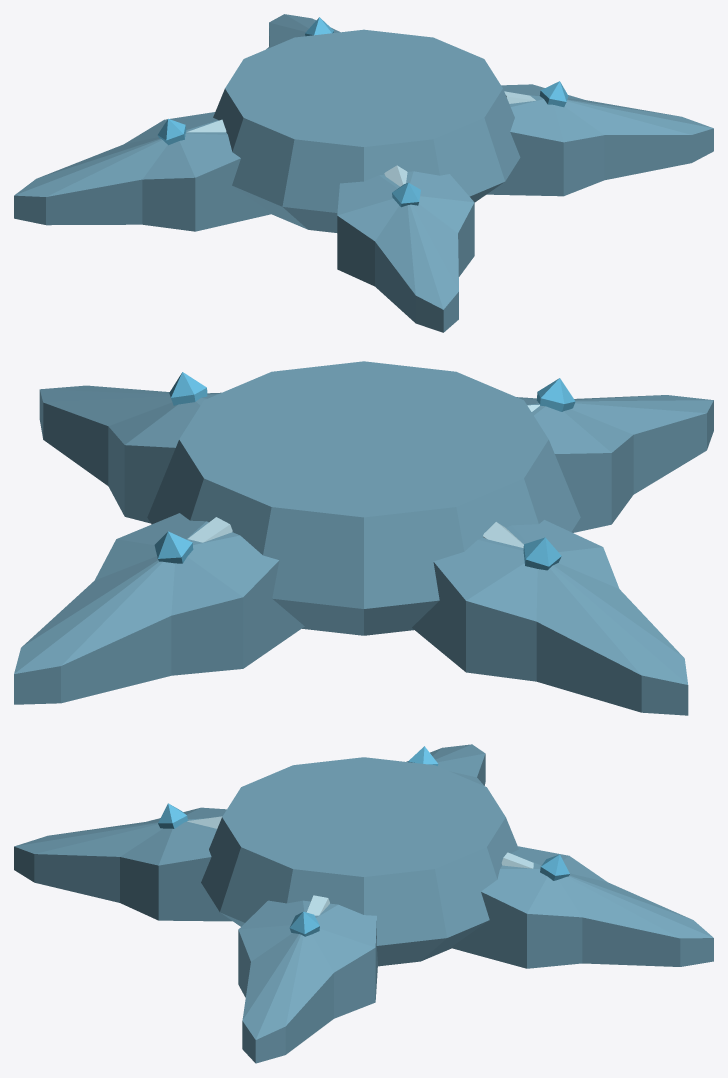
The model's file is FrostRoot.obj.
3 views of the same model, one above another, from view 1: azimuth 30°, elevation 25°; view 2: azimuth 150°, elevation 25°; view 3: azimuth 270°, elevation 25° (orthographic). The views are drawn at different scales.
Visible parts, largest first — view 1: FrostRoot_FrostRootBody, FrostRoot_RootIceCrystals, FrostRoot_FrostRootIce; view 2: FrostRoot_FrostRootBody, FrostRoot_RootIceCrystals, FrostRoot_FrostRootIce; view 3: FrostRoot_FrostRootBody, FrostRoot_RootIceCrystals, FrostRoot_FrostRootIce.
Part boxes in pixels (x1,y1,x2,y2): FrostRoot_FrostRootBody: (14,14,713,332); FrostRoot_RootIceCrystals: (157,17,568,207); FrostRoot_FrostRootIce: (187,91,535,186); FrostRoot_FrostRootBody: (14,361,713,715); FrostRoot_RootIceCrystals: (154,372,575,570); FrostRoot_FrostRootIce: (188,404,539,547); FrostRoot_FrostRootBody: (14,744,713,1063); FrostRoot_RootIceCrystals: (158,746,569,936); FrostRoot_FrostRootIce: (187,816,533,915).
Size of the model in its own units: 3.7 by 0.6 by 3.7.
